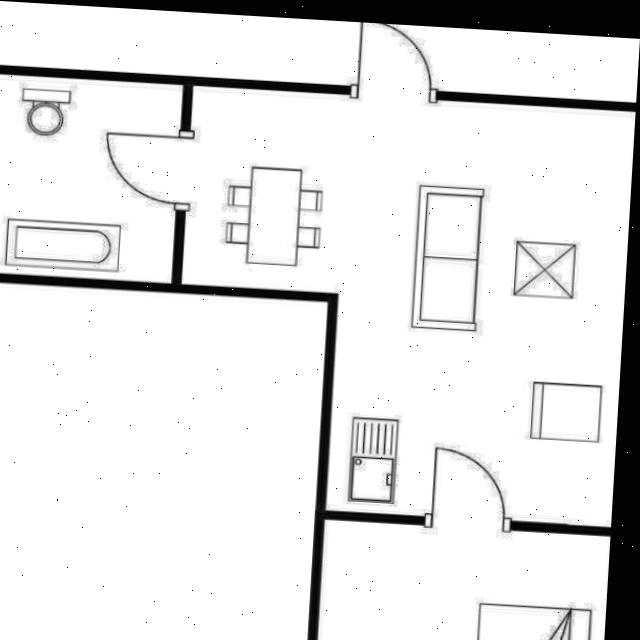room: (167, 84, 638, 528), (0, 74, 182, 281), (317, 518, 611, 640)
